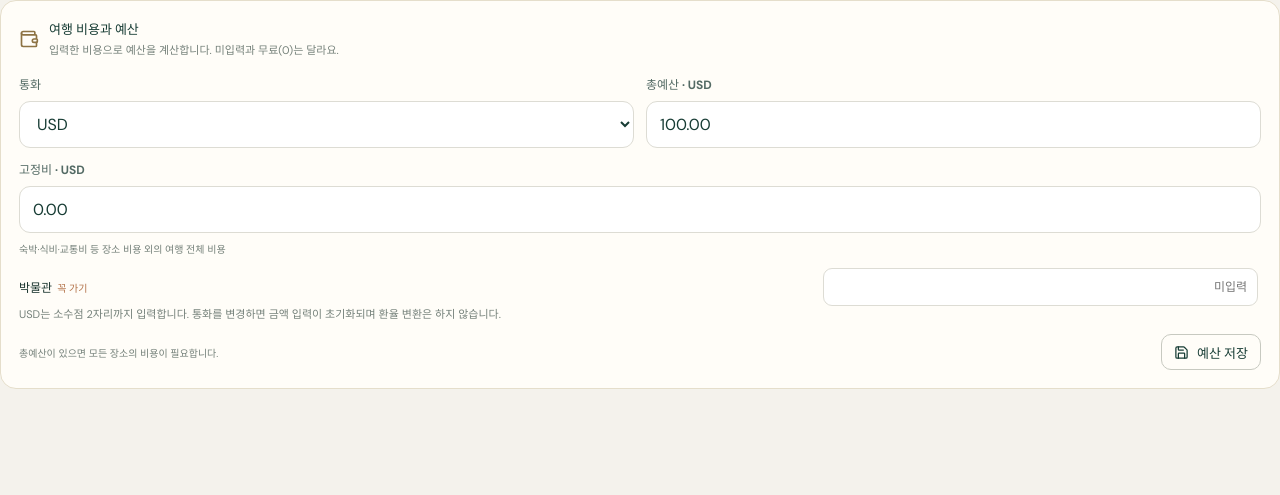
Test case: BudgetPlanner › clears amounts on currency change and validates precision before saving
Expected: the field labelled "총예산" is shown, x1=646 y1=101 x2=1261 y2=148
Select "JPY" in the dropdown named "예산 통화" at (326, 124), box x1=19 y1=101 x2=634 y2=148
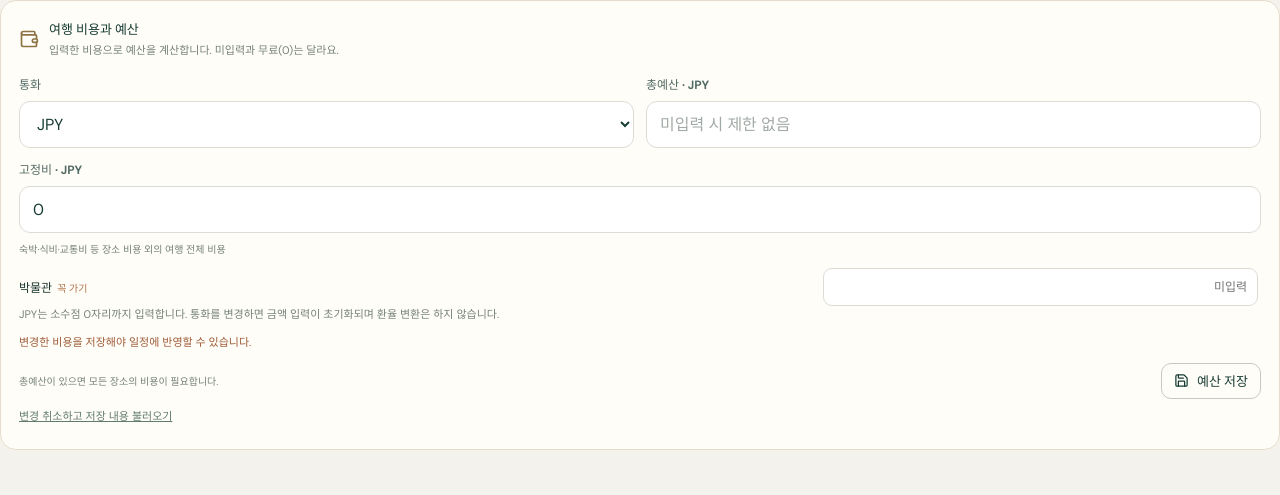
Now the field labelled "총예산" is empty, box x1=646 y1=101 x2=1261 y2=148
Type "0.5" into the field named "박물관 예상 비용" at (1040, 287), box x1=823 y1=268 x2=1258 y2=306
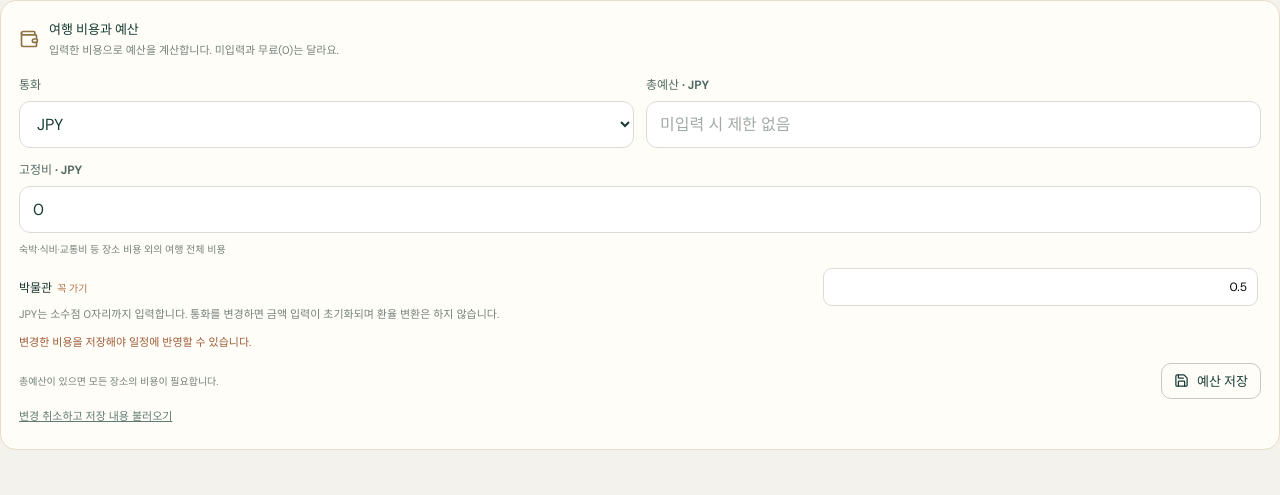
Click the button "예산 저장" at (1211, 381), box x1=1161 y1=363 x2=1261 y2=399
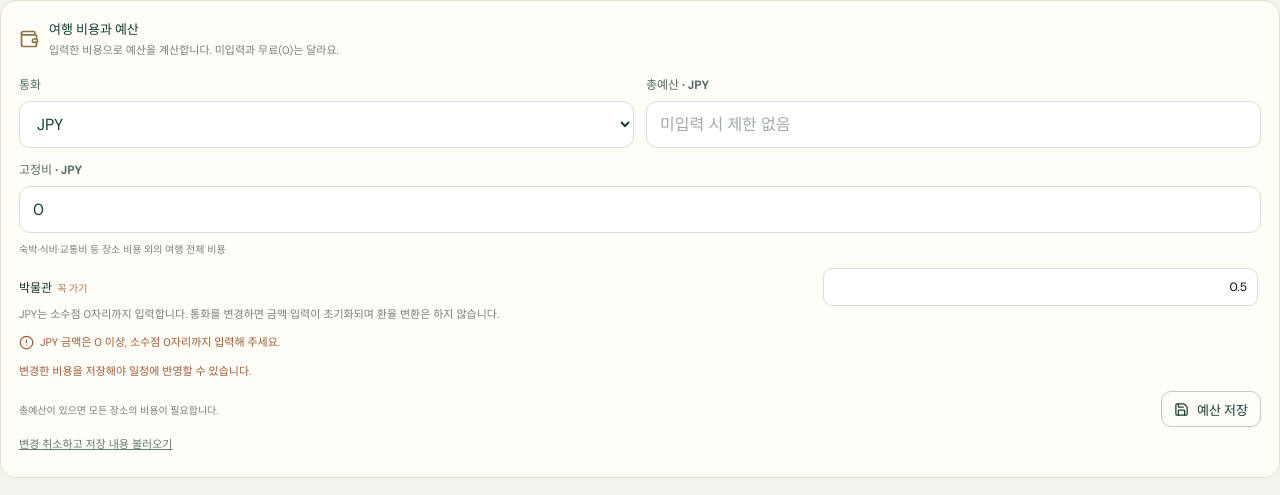
Now the message "JPY 금액은 0 이상, 소수점 0자리까지 입력해 주세요." is shown, box x1=19 y1=335 x2=280 y2=350
